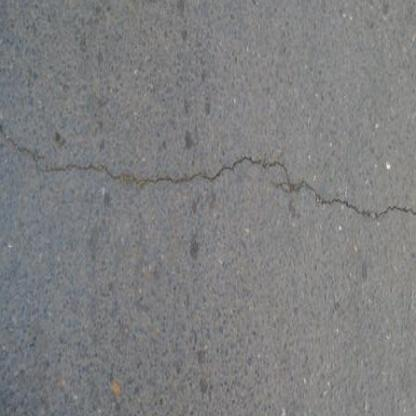Cracks: (0, 104, 416, 229)
